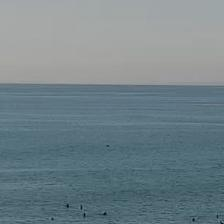surfer: (82, 212, 86, 217), (192, 218, 196, 222), (103, 211, 107, 215), (79, 205, 83, 209), (66, 204, 70, 208), (106, 144, 110, 147), (50, 217, 54, 220), (216, 214, 218, 218), (219, 222, 223, 223)
